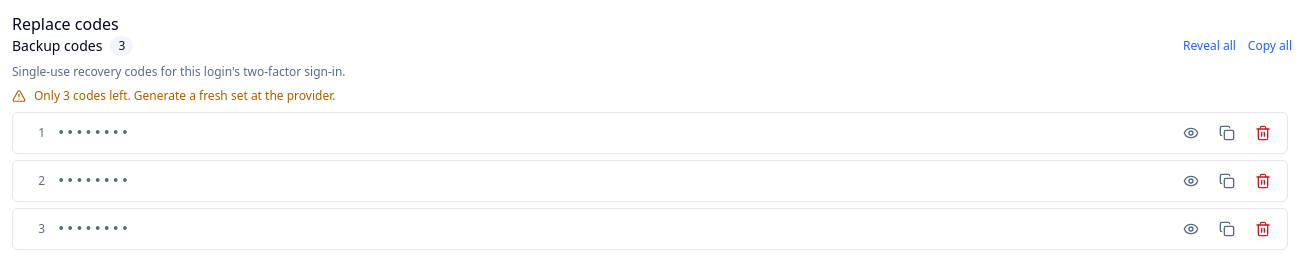
Test case: BackupCodeList rendering and masking › reveals one row without revealing its neighbours
Click the button named "Reveal backup code 2" at (1191, 181), box x1=1179 y1=169 x2=1203 y2=193
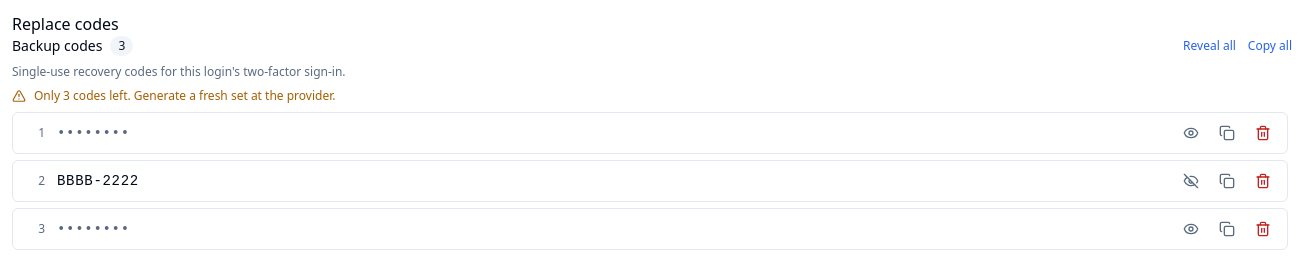
expect the text "BBBB-2222" is shown: met, box x1=57 y1=173 x2=139 y2=189
expect the button named "Hide backup code 2" is shown: met, box x1=1179 y1=169 x2=1203 y2=193
